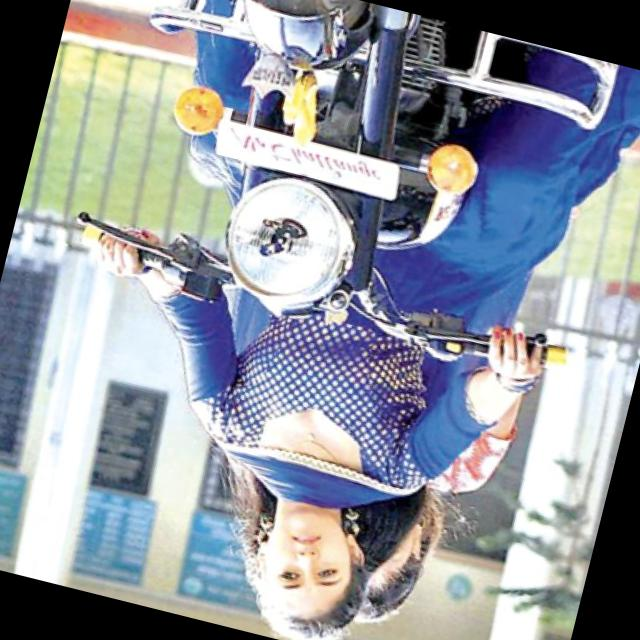bareface: (238, 486, 389, 640)
